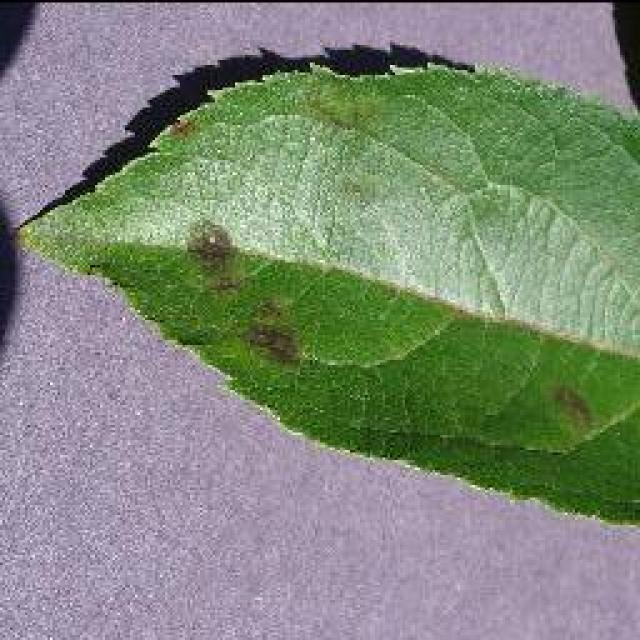apple scab disease: (15, 45, 637, 537)
